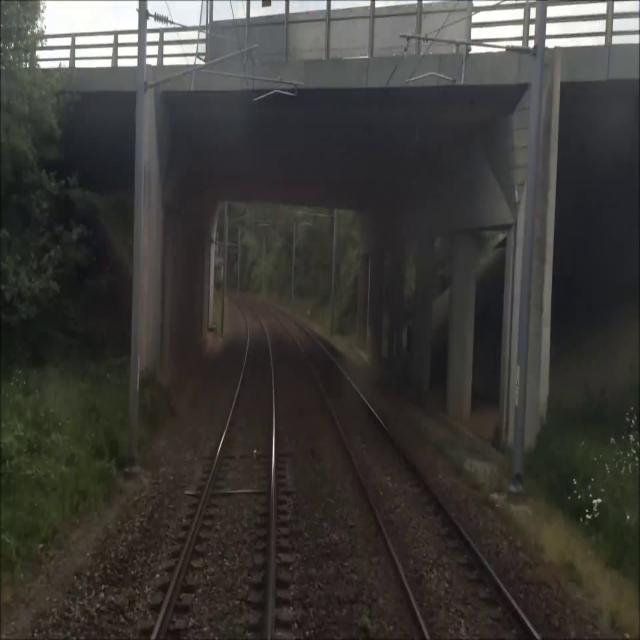rail-track: (262, 303, 535, 639), (156, 301, 272, 639)
